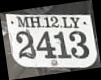character: (15, 30, 36, 60), (36, 30, 57, 59), (68, 30, 89, 58), (53, 30, 71, 59), (16, 15, 29, 28), (29, 16, 41, 28), (61, 16, 72, 28), (70, 16, 80, 28), (50, 16, 59, 28), (43, 16, 50, 28)
